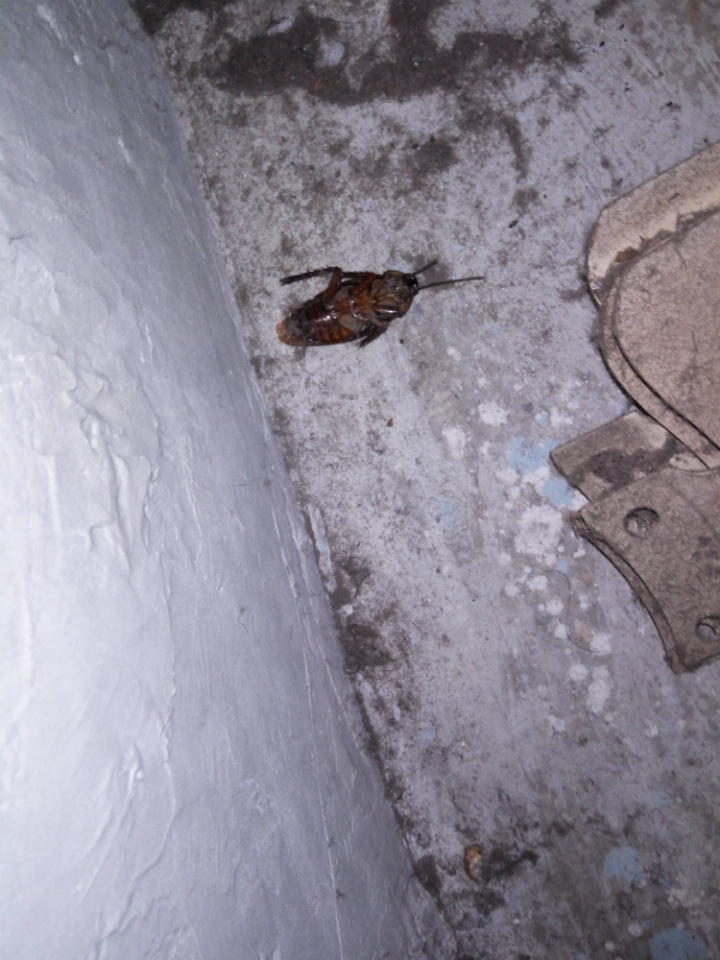cockroach: (231, 235, 575, 413)
